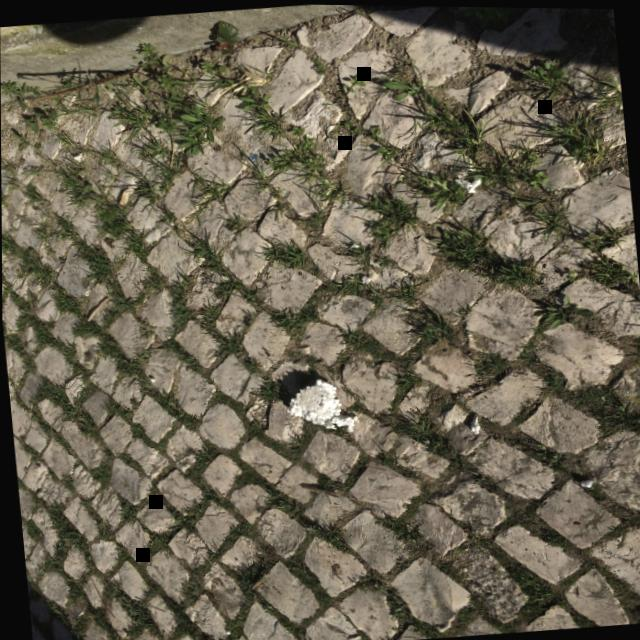Styrofoam piece: (285, 378, 358, 431), (467, 177, 480, 191), (469, 414, 478, 433), (578, 478, 591, 485), (359, 274, 369, 283)
